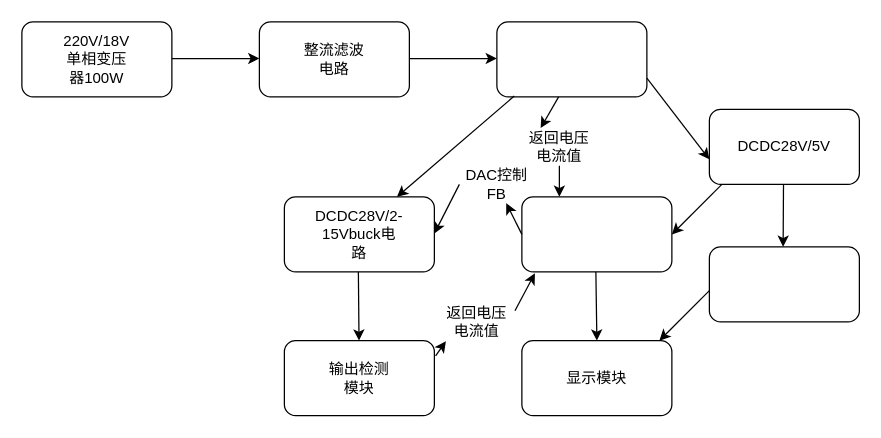
Image size: 881x438. Some labels were removed from this diagram. Each missing label, with the box of its shape:
DCDC5V/3.3V: (708, 246, 859, 322)
单片机: (521, 196, 672, 272)
输入检测电路: (496, 21, 647, 97)
